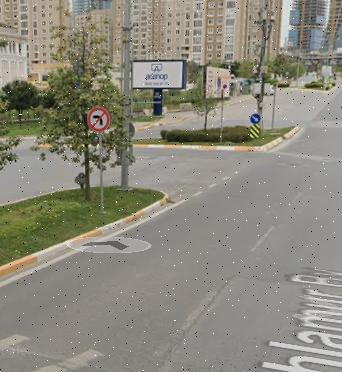leftturnsareforbidden: (87, 107, 108, 132)
